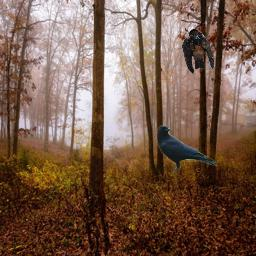Crow: (157, 124, 217, 173)
Swallow: (182, 29, 215, 74)
